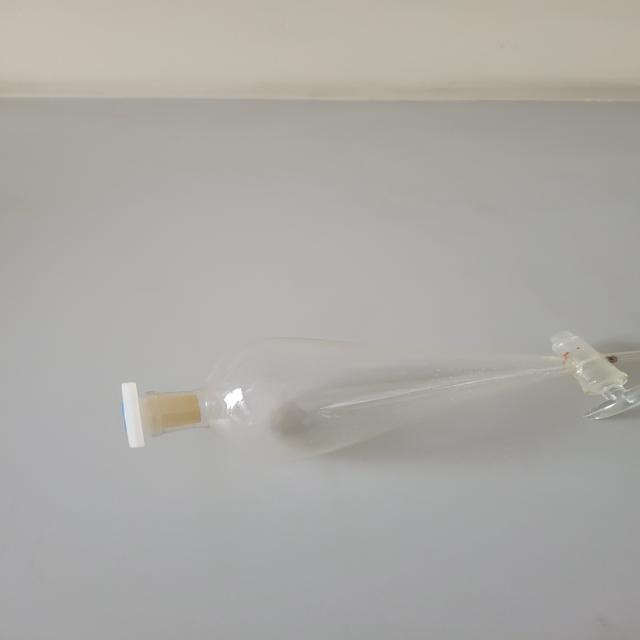Separating_Funnel: (74, 298, 640, 490)
